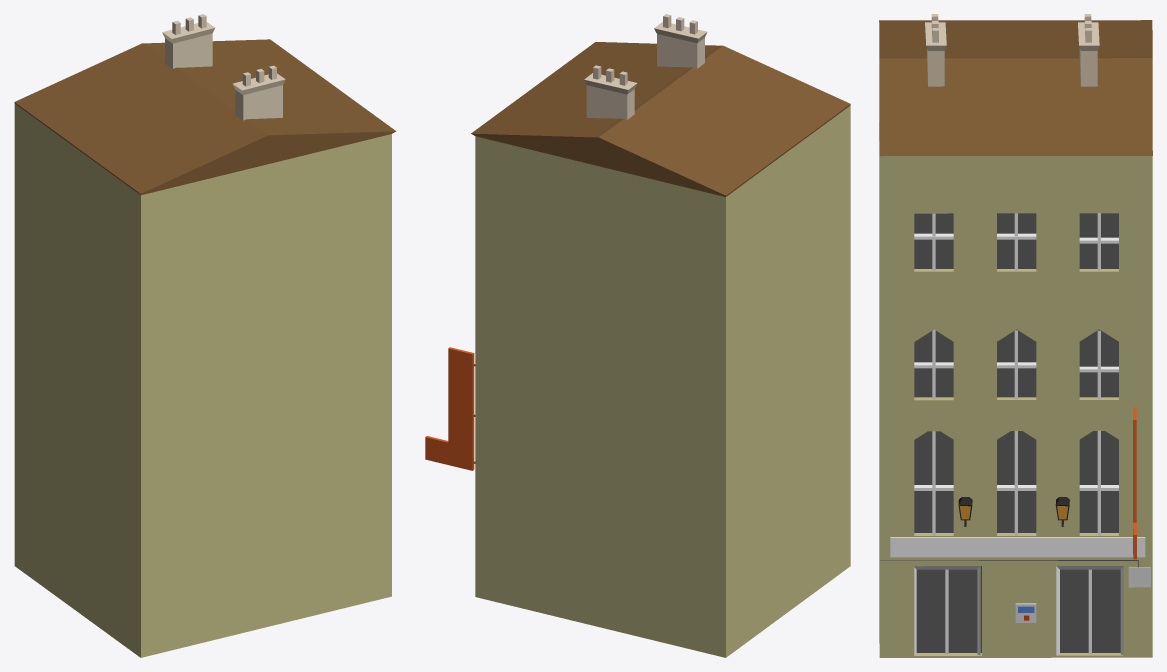
File: Building_092.glb
The picture shows the model from 3 angles, left to right: view 1: azimuth 30°, elevation 25°; view 2: azimuth 150°, elevation 25°; view 3: azimuth 270°, elevation 25°; orthographic projection. The views are drawn at different scales.
Visible parts, largest first — view 1: Cube.5808; view 2: Cube.5808; view 3: Cube.5808.
Part boxes in pixels (x1=…): Cube.5808: x1=14, y1=14, x2=396, y2=657; Cube.5808: x1=425, y1=14, x2=850, y2=657; Cube.5808: x1=879, y1=14, x2=1152, y2=657.
Bounding box in the file's own units: 0.3354 × 0.5527 × 0.2367.
